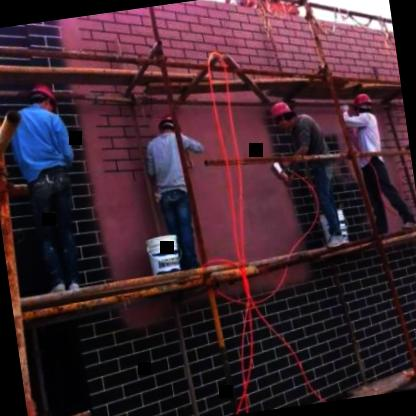helmet: (24, 78, 60, 115), (270, 99, 298, 134), (155, 110, 185, 138), (352, 90, 375, 119)
